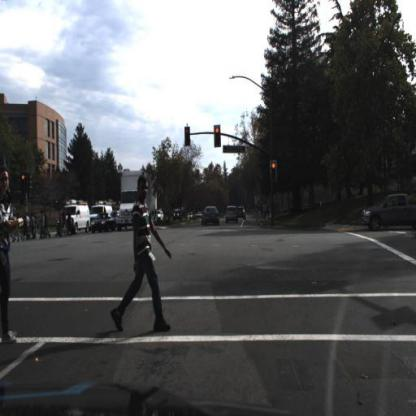car: (361, 192, 416, 234), (54, 204, 91, 235), (90, 203, 116, 228), (200, 204, 220, 230), (92, 212, 116, 233), (201, 204, 222, 228), (226, 206, 240, 226)
pedestrian: (109, 175, 174, 333), (2, 166, 21, 345), (3, 164, 21, 347), (29, 208, 40, 242), (114, 199, 125, 230), (13, 211, 21, 244), (16, 211, 24, 242), (39, 210, 47, 240), (44, 210, 52, 240), (10, 213, 16, 243), (30, 215, 36, 244), (26, 211, 31, 244), (23, 217, 30, 240)
trafficLight-Red: (213, 122, 222, 150), (270, 158, 279, 184)
trafficLight-RedLeft: (184, 123, 192, 146), (20, 172, 28, 192)
truck: (117, 171, 159, 232), (59, 201, 91, 237), (90, 202, 113, 226)
